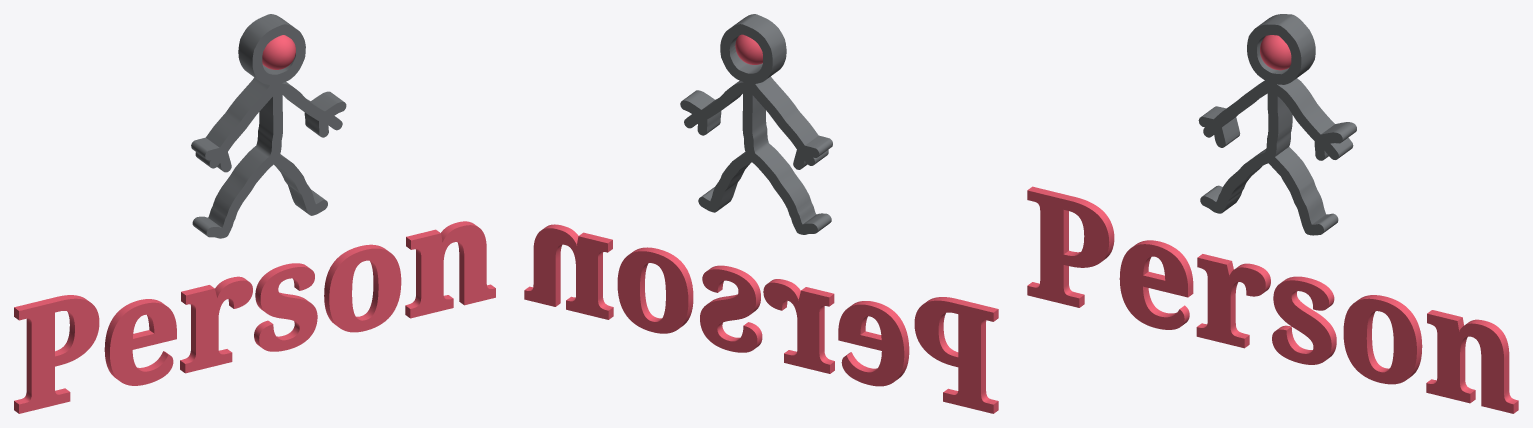
The picture shows the model from 3 angles, left to right: view 1: azimuth 30°, elevation 25°; view 2: azimuth 150°, elevation 25°; view 3: azimuth 330°, elevation 25°; orthographic projection. The views are drawn at different scales.
Visible parts, largest first — view 1: Object_2, Object_3; view 2: Object_2, Object_3; view 3: Object_2, Object_3.
Boxes of the visible parts, box(x1,y1,x2,y2) form: Object_2: box(14, 35, 495, 413); Object_3: box(191, 14, 346, 238); Object_2: box(524, 34, 998, 413); Object_3: box(680, 14, 832, 234); Object_2: box(1027, 35, 1518, 413); Object_3: box(1198, 14, 1356, 235).
Bounding box in the file's own units: 97.9 × 65.76 × 7.
